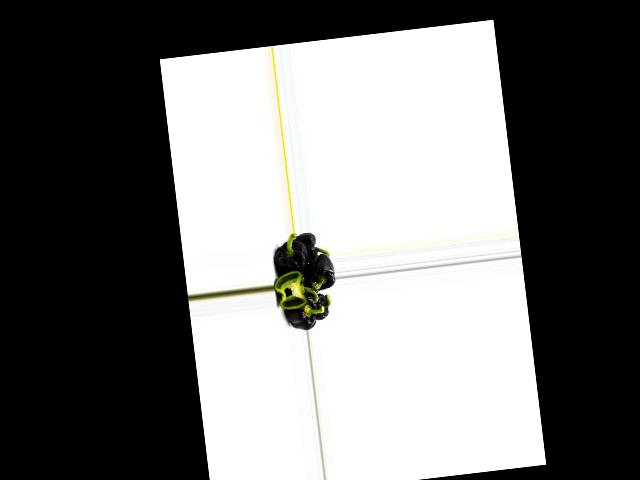bell_pepper: (285, 288, 319, 331)
